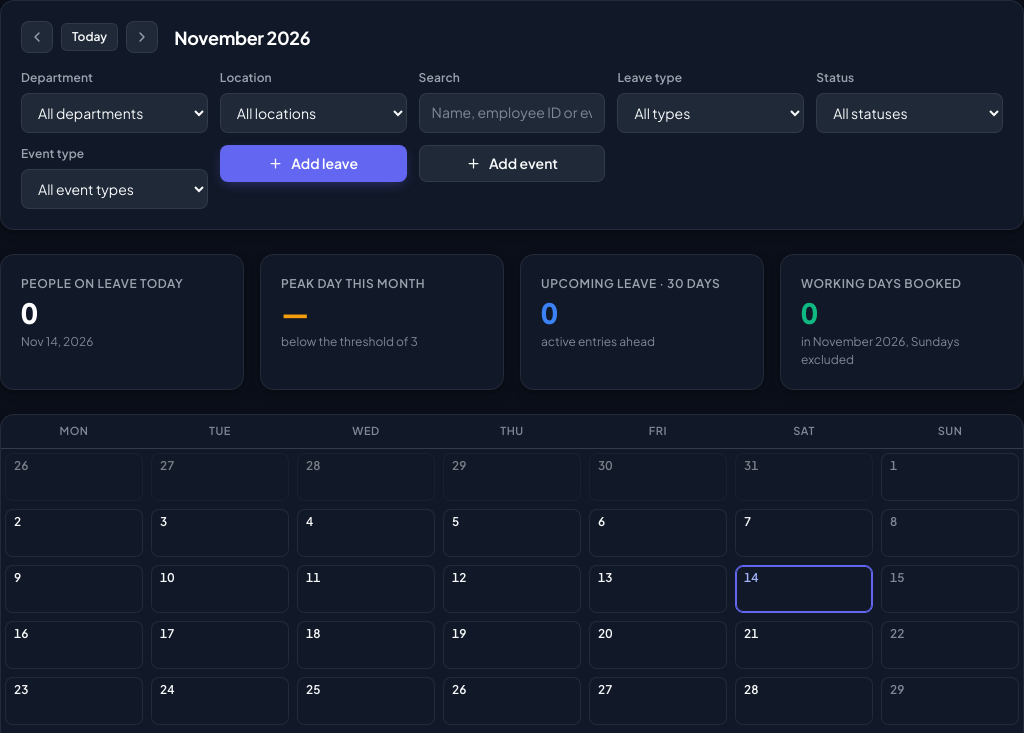
PlannerSection › rejects an end date before the start date
This screenshot has width=1024, height=733.
Click the button "Add leave" at (313, 163), box [220,145,407,182]
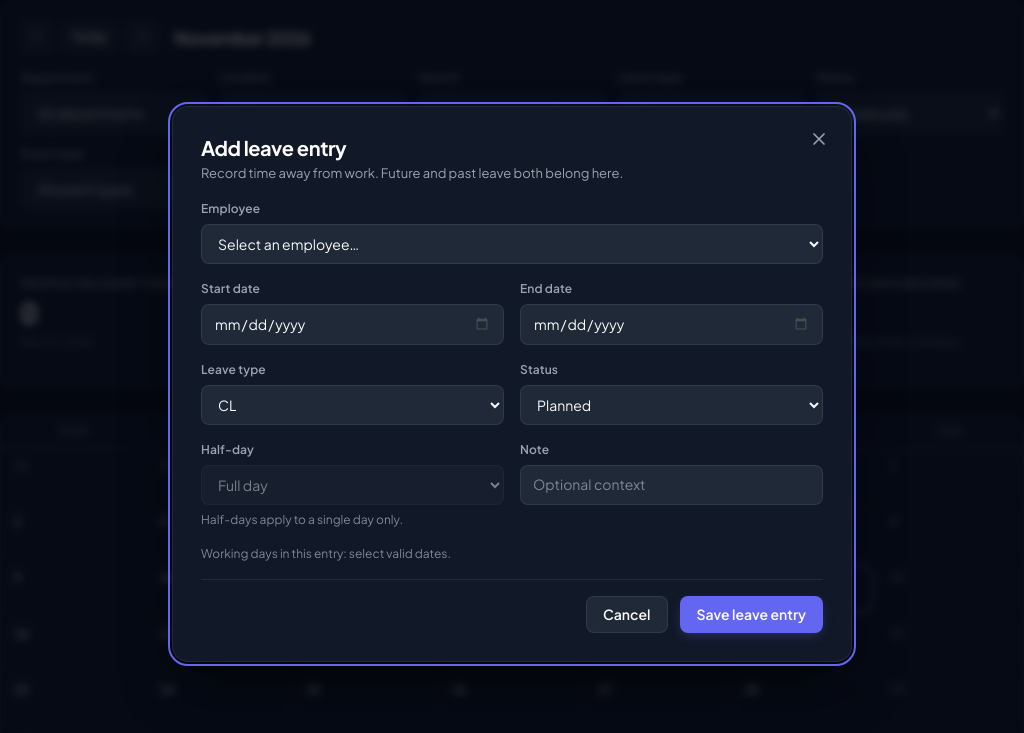
Select "Ravi Kumar (EMP-A)" in the dropdown labelled "Employee" at (512, 244), box [201,224,823,264]
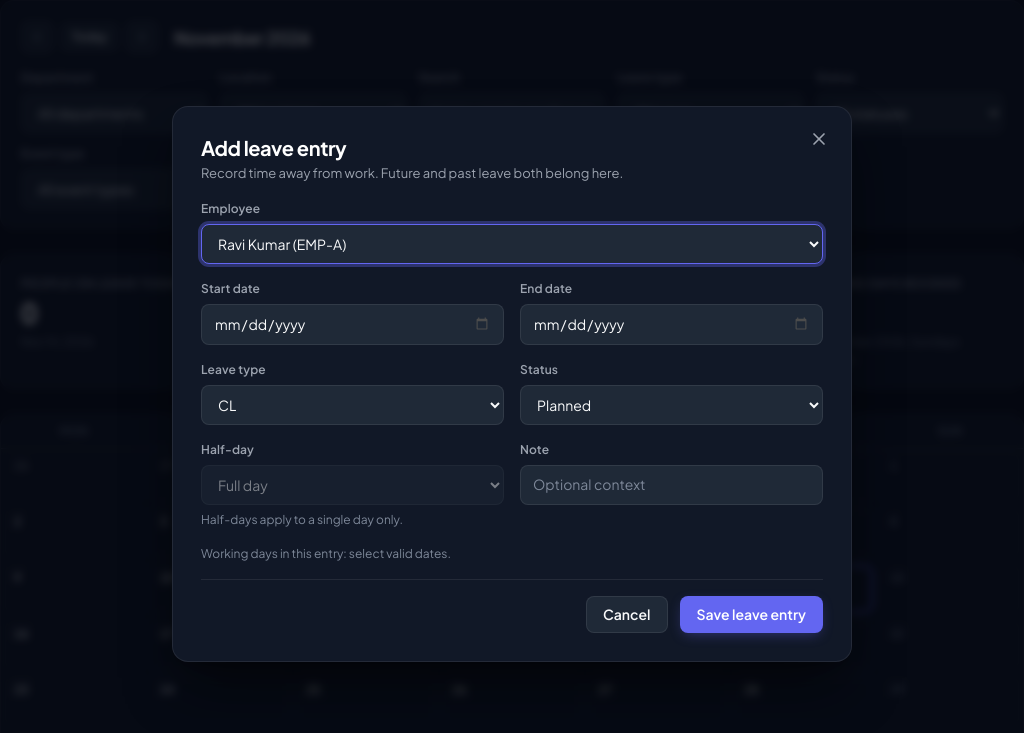
Type "2026-11-12" into the date field labelled "Start date" at (352, 324), box [201,304,504,345]
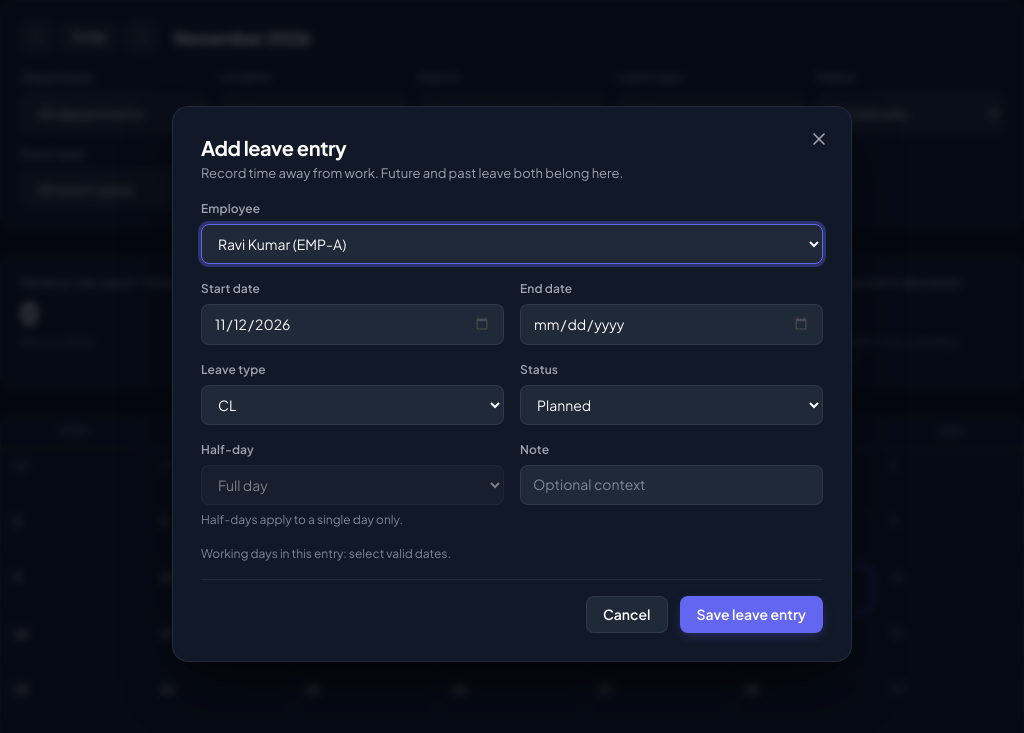
Type "2026-11-10" into the date field labelled "End date" at (672, 324), box [520,304,823,345]
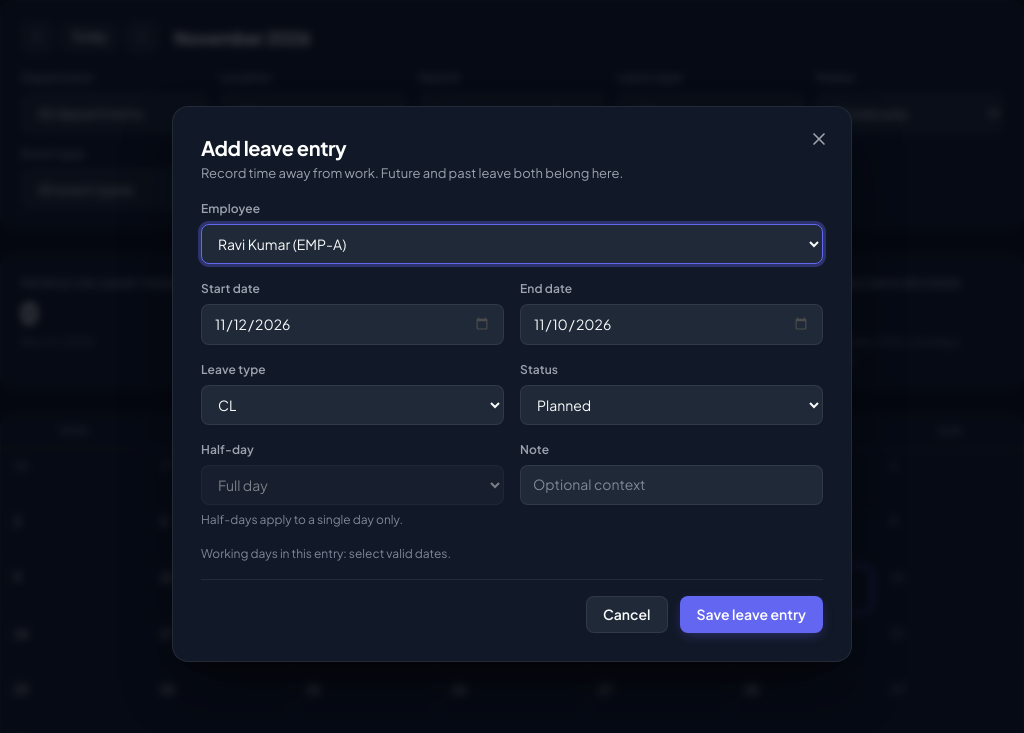
Click the button "Save leave entry" at (751, 615), box [680,596,823,633]
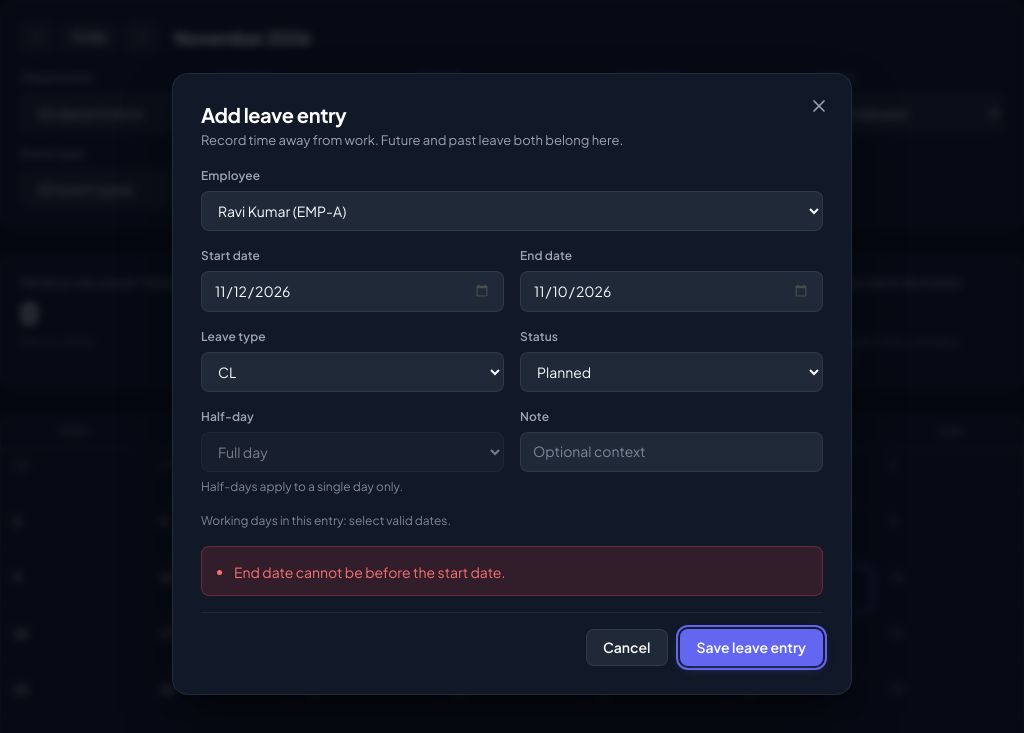
Now the message shows "End date cannot be before the start date", box [234,563,506,581]
